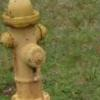Hydrant: (4, 0, 52, 100)
